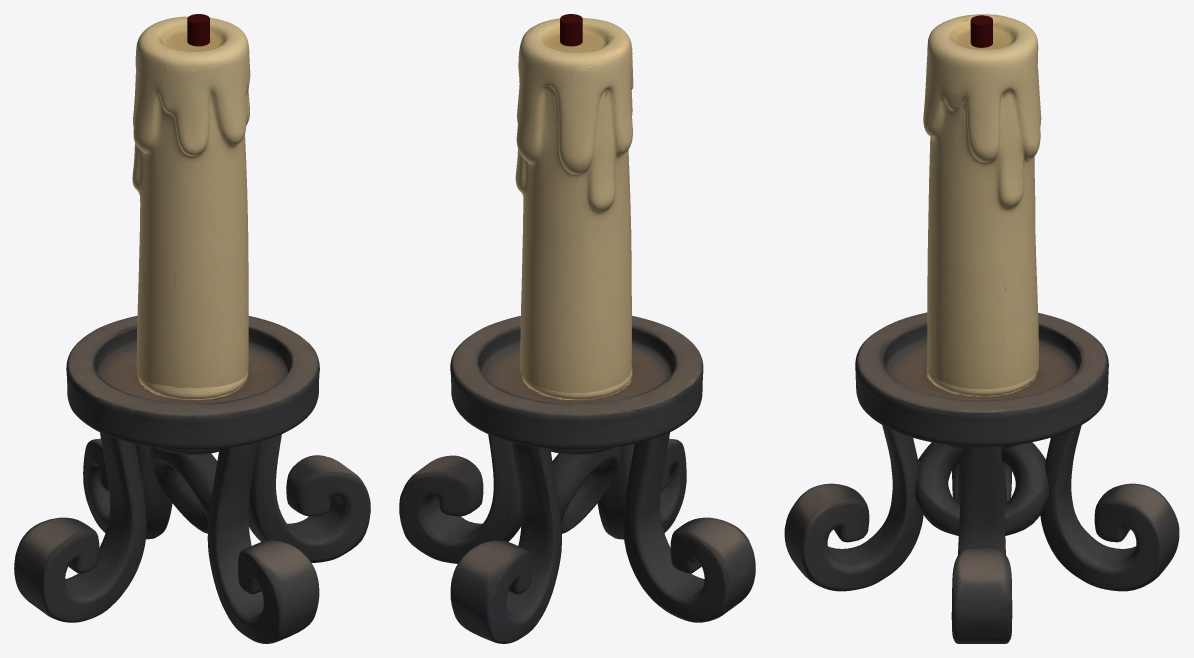
File: candle_8.glb
3 renders of one model, left to right at view 1: azimuth 30°, elevation 25°; view 2: azimuth 150°, elevation 25°; view 3: azimuth 270°, elevation 25°, orthographic.
Visible parts, largest first — view 1: tripo_node_cc40858e-7100-4b43-a899-a63197b0435a, tripo_node_d504aa78-2d36-4d63-a000-d4e156e20fec, Cylinder.002; view 2: tripo_node_cc40858e-7100-4b43-a899-a63197b0435a, tripo_node_d504aa78-2d36-4d63-a000-d4e156e20fec, Cylinder.002; view 3: tripo_node_cc40858e-7100-4b43-a899-a63197b0435a, tripo_node_d504aa78-2d36-4d63-a000-d4e156e20fec, Cylinder.002.
Part boxes in pixels (x1=…): tripo_node_cc40858e-7100-4b43-a899-a63197b0435a: x1=14, y1=316, x2=370, y2=643; tripo_node_d504aa78-2d36-4d63-a000-d4e156e20fec: x1=132, y1=16, x2=250, y2=388; Cylinder.002: x1=187, y1=14, x2=209, y2=46; tripo_node_cc40858e-7100-4b43-a899-a63197b0435a: x1=399, y1=316, x2=755, y2=643; tripo_node_d504aa78-2d36-4d63-a000-d4e156e20fec: x1=515, y1=18, x2=633, y2=392; Cylinder.002: x1=560, y1=14, x2=582, y2=46; tripo_node_cc40858e-7100-4b43-a899-a63197b0435a: x1=784, y1=312, x2=1179, y2=643; tripo_node_d504aa78-2d36-4d63-a000-d4e156e20fec: x1=923, y1=14, x2=1041, y2=389; Cylinder.002: x1=970, y1=15, x2=992, y2=47.
Bounding box in the file's own units: 0.5463 × 0.893 × 0.5677.
4 materials, 3 textured.
